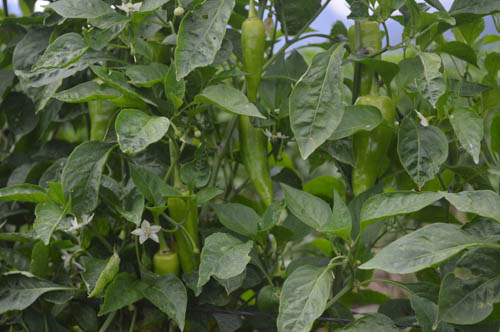ChiliPepper: (349, 97, 394, 200), (241, 112, 276, 211), (87, 83, 123, 165), (166, 185, 197, 268), (346, 22, 380, 97), (240, 18, 266, 102), (149, 254, 182, 282)
